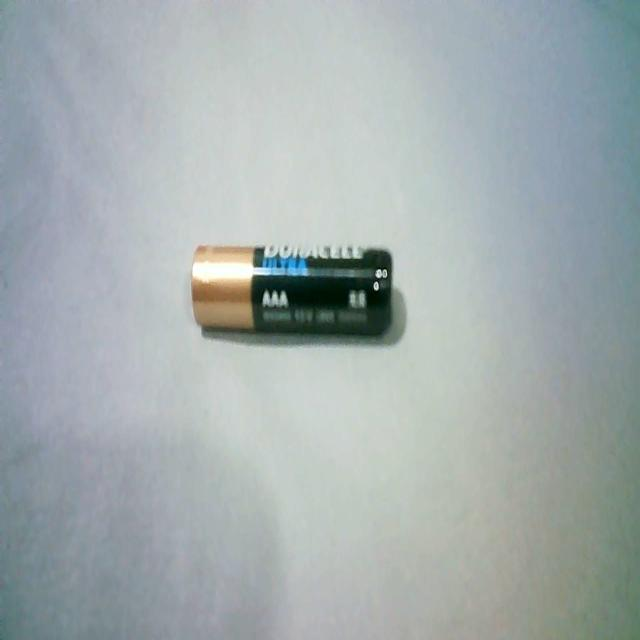AAA: (183, 238, 401, 354)
